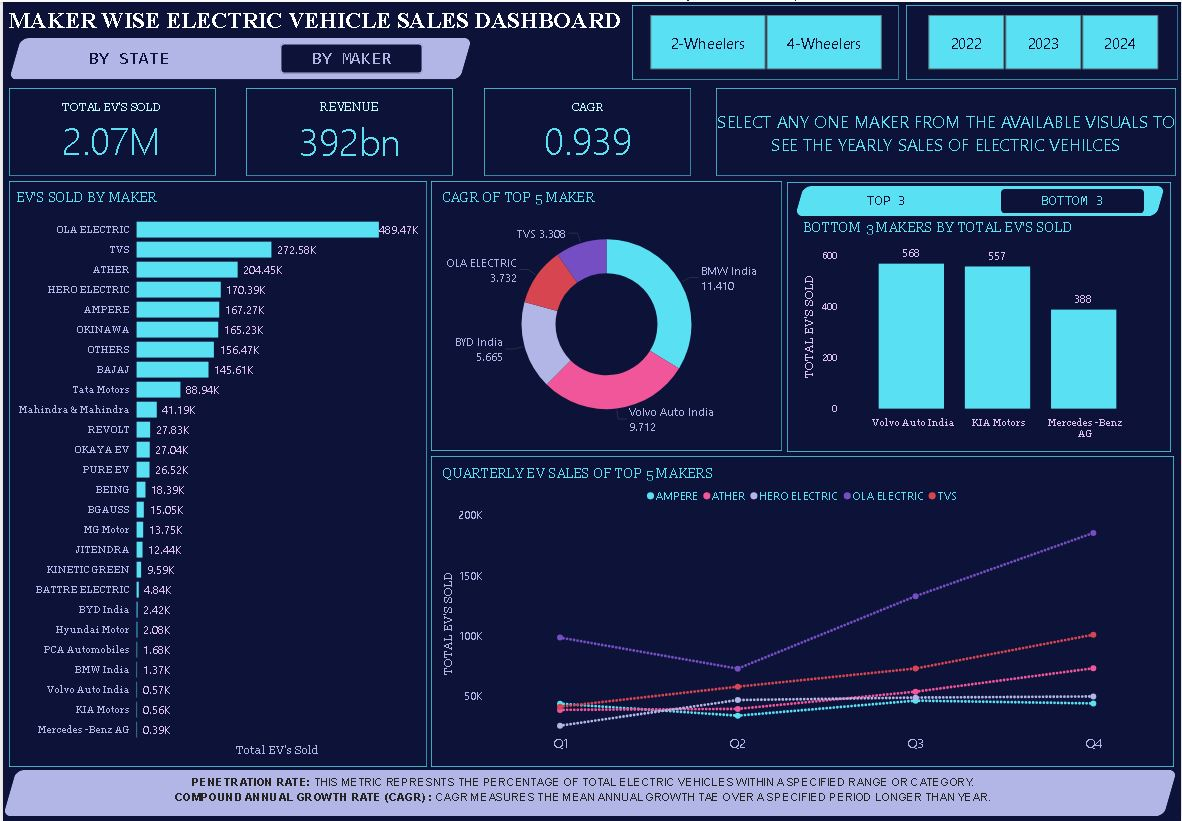

Layout of this report page (visuals, bound fields, positions):
{"tool":"powerbi","page":{"name":"Maker","canvas":[1652,1150],"ordinal":1},"visuals":[{"type":"shape","title":"TOP 10 STATES BY CAGR","box":[600.2,251,492.3,378.7],"z":0},{"type":"shape","title":"TOP 10 STATES BY CAGR","box":[1266.4,4.2,381.5,105.2],"z":1000},{"type":"shape","title":"TOP 10 STATES BY CAGR","box":[1099.3,252.3,538.5,378.7],"z":2000},{"type":"shape","box":[8.5,51.1,649.2,58.4],"z":3000},{"type":"shape","box":[8.4,251,586.2,821.8],"z":4000},{"type":"clusteredColumnChart","title":"BOTTOM 3 MAKERS BY TOTAL EV''S SOLD","fields":{"Category":["ev_sales_by_makers.maker"],"Y":["Key Measures.Total Ev's sold by makers"]},"box":[1117.8,302.8,502.1,318.4],"z":5000},{"type":"shape","box":[675,120.6,290.3,123.4],"z":6000},{"type":"shape","box":[7,4.2,875.1,43.5],"z":7000},{"type":"shape","box":[1110.8,257.5,518.9,42.1],"z":8000},{"type":"actionButton","box":[388.5,57.5,200.5,43.5],"z":9000},{"type":"shape","box":[8.4,120.6,290,123.4],"z":10000},{"type":"actionButton","box":[1138.9,261.7,200.5,33.7],"z":11000},{"type":"card","title":"TOTAL EV''S SOLD","fields":{"Values":["Key Measures.Total Ev's sold by makers"]},"box":[54.7,137.4,194.9,91.2],"z":12000},{"type":"card","title":"CAGR","fields":{"Values":["Key Measures.CAGR by maker"]},"box":[724.1,137.4,193.5,91.2],"z":13000},{"type":"actionButton","box":[1399.7,261.7,200.5,33.7],"z":14000},{"type":"clusteredBarChart","title":"EV''S SOLD BY MAKER","fields":{"Category":["ev_sales_by_makers.maker"],"Y":["Key Measures.Total Ev's sold by makers"]},"box":[14,260.9,575,802.2],"z":15000},{"type":"shape","box":[341.2,120.6,290,123.4],"z":16000},{"type":"card","title":"REVENUE","fields":{"Values":["Key Measures.Total Revenue"]},"box":[381.6,137.4,209,91.2],"z":17000},{"type":"shape","title":"TOP 10 STATES BY CAGR","box":[600.2,636.7,1042,436.2],"z":18000},{"type":"slicer","fields":{"Values":["dim_date.fiscal_year"]},"box":[1272,11.2,371.6,89.8],"z":19000},{"type":"shape","box":[0,1077.1,1646.5,64.5],"z":20000},{"type":"textbox","box":[79.9,1079.9,1467,57.5],"z":21000},{"type":"shape","title":"TOP 10 STATES BY CAGR","box":[882.1,4.2,374.5,105.2],"z":22000},{"type":"slicer","fields":{"Values":["ev_sales_by_makers.vehicle_category"]},"box":[882.1,11.2,374.5,89.8],"z":23000},{"type":"actionButton","box":[77.1,57.5,199.1,43.5],"z":24000},{"type":"donutChart","title":"CAGR OF TOP 5 MAKER","fields":{"Category":["ev_sales_by_makers.maker"],"Y":["Key Measures.CAGR by maker"]},"box":[611.5,260.9,469.8,359],"z":25000},{"type":"shape","box":[999.9,120.6,645.1,123.4],"z":26000},{"type":"lineChart","title":"YEARLY EV SALES OF","fields":{"Category":["dim_date.fiscal_year"],"Y":["Key Measures.Market-wise EV Sales"]},"box":[1011.2,127.6,625.5,110.8],"z":27000},{"type":"shape","box":[1008.4,126.2,419.3,37.9],"z":28000},{"type":"lineChart","title":"QUARTERLY EV SALES OF TOP 5 MAKERS","fields":{"Category":["dim_date.quarter"],"Y":["Key Measures.Total Ev's sold by makers"],"Series":["ev_sales_by_makers.maker"]},"box":[611.5,647.9,1022.4,415.1],"z":29000}]}

Visuals, with their boxes in screenshot pixels (x1, y1, x2, y2), scaled from the page's 1652x1150 canvas onto the 1182x821 screenshot:
"TOP 10 STATES BY CAGR" shape: {"x1": 429, "y1": 179, "x2": 782, "y2": 450}
"TOP 10 STATES BY CAGR" shape: {"x1": 906, "y1": 3, "x2": 1179, "y2": 78}
"TOP 10 STATES BY CAGR" shape: {"x1": 787, "y1": 180, "x2": 1172, "y2": 450}
shape: {"x1": 6, "y1": 36, "x2": 471, "y2": 78}
shape: {"x1": 6, "y1": 179, "x2": 425, "y2": 766}
"BOTTOM 3 MAKERS BY TOTAL EV''S SOLD" clusteredColumnChart: {"x1": 800, "y1": 216, "x2": 1159, "y2": 443}
shape: {"x1": 483, "y1": 86, "x2": 691, "y2": 174}
shape: {"x1": 5, "y1": 3, "x2": 631, "y2": 34}
shape: {"x1": 795, "y1": 184, "x2": 1166, "y2": 214}
actionButton: {"x1": 278, "y1": 41, "x2": 421, "y2": 72}
shape: {"x1": 6, "y1": 86, "x2": 214, "y2": 174}
actionButton: {"x1": 815, "y1": 187, "x2": 958, "y2": 211}
"TOTAL EV''S SOLD" card: {"x1": 39, "y1": 98, "x2": 179, "y2": 163}
"CAGR" card: {"x1": 518, "y1": 98, "x2": 657, "y2": 163}
actionButton: {"x1": 1001, "y1": 187, "x2": 1145, "y2": 211}
"EV''S SOLD BY MAKER" clusteredBarChart: {"x1": 10, "y1": 186, "x2": 421, "y2": 759}
shape: {"x1": 244, "y1": 86, "x2": 452, "y2": 174}
"REVENUE" card: {"x1": 273, "y1": 98, "x2": 423, "y2": 163}
"TOP 10 STATES BY CAGR" shape: {"x1": 429, "y1": 455, "x2": 1175, "y2": 766}
slicer - dim_date.fiscal_year: {"x1": 910, "y1": 8, "x2": 1176, "y2": 72}
shape: {"x1": 0, "y1": 769, "x2": 1178, "y2": 815}
textbox: {"x1": 57, "y1": 771, "x2": 1107, "y2": 812}
"TOP 10 STATES BY CAGR" shape: {"x1": 631, "y1": 3, "x2": 899, "y2": 78}
slicer - ev_sales_by_makers.vehicle_category: {"x1": 631, "y1": 8, "x2": 899, "y2": 72}
actionButton: {"x1": 55, "y1": 41, "x2": 198, "y2": 72}
"CAGR OF TOP 5 MAKER" donutChart: {"x1": 438, "y1": 186, "x2": 774, "y2": 443}
shape: {"x1": 715, "y1": 86, "x2": 1177, "y2": 174}
"YEARLY EV SALES OF" lineChart: {"x1": 724, "y1": 91, "x2": 1171, "y2": 170}
shape: {"x1": 722, "y1": 90, "x2": 1022, "y2": 117}
"QUARTERLY EV SALES OF TOP 5 MAKERS" lineChart: {"x1": 438, "y1": 463, "x2": 1169, "y2": 759}
